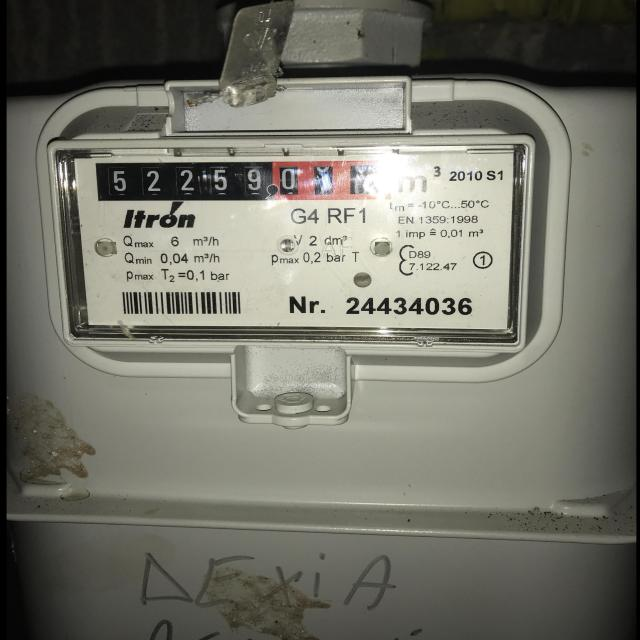gaz_meter: (46, 147, 522, 344)
indication: (97, 160, 387, 201)
